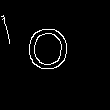O_S: (31, 29, 76, 82)
